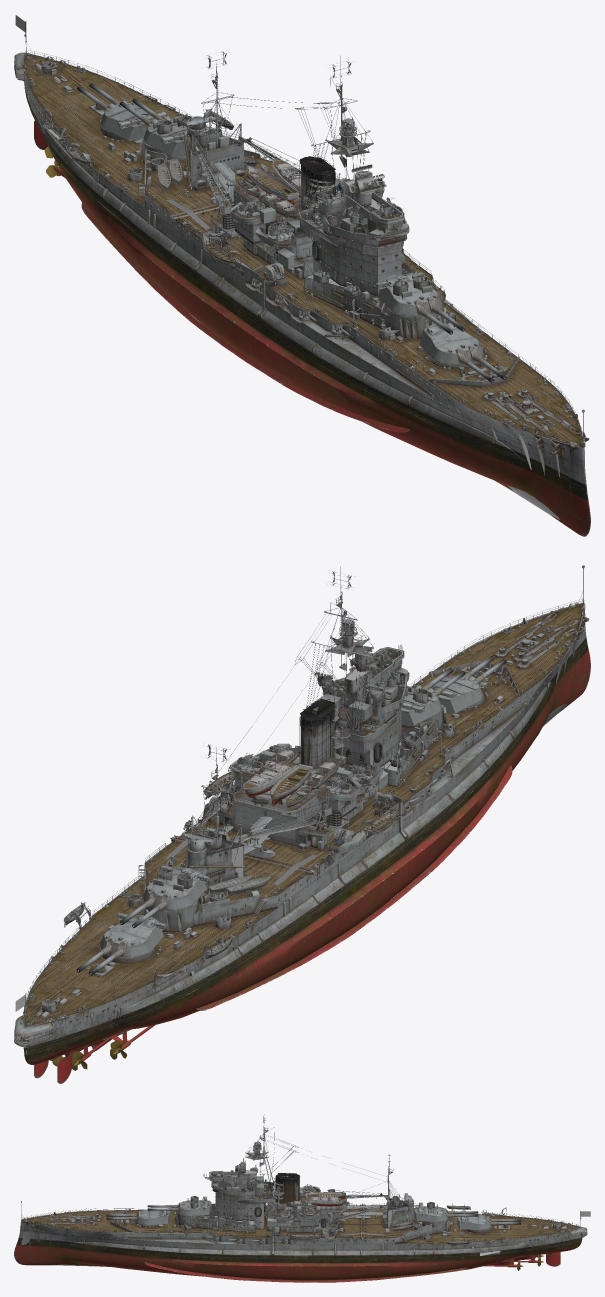
File: hms_warspite_war_thunder-maximum-compressed.glb
3 views of the same model, one above another, from view 1: azimuth 30°, elevation 25°; view 2: azimuth 150°, elevation 25°; view 3: azimuth 270°, elevation 25° (orthographic). The views are drawn at different scales.
Visible parts, largest first — view 1: Object_110, Object_51, Object_32, Object_111, Object_116, Object_135, Object_118, Object_115, Object_123, Object_134, Object_124, Object_117 (+13 smaller); view 2: Object_110, Object_32, Object_51, Object_111, Object_117, Object_118, Object_134, Object_135, Object_124, Object_116, Object_130, Object_115 (+20 smaller); view 3: Object_51, Object_110, Object_32, Object_111, Object_116, Object_117, Object_135, Object_118, Object_108, Object_134, Object_107, Object_115 (+16 smaller).
Part boxes in pixels (x1,y1,x2,y2): Object_110: [23, 54, 587, 492]; Object_51: [24, 87, 590, 536]; Object_32: [25, 55, 582, 447]; Object_111: [23, 54, 587, 493]; Object_116: [303, 219, 411, 329]; Object_135: [77, 83, 506, 379]; Object_118: [318, 179, 409, 247]; Object_115: [183, 117, 246, 189]; Object_123: [203, 214, 337, 287]; Object_134: [100, 102, 187, 156]; Object_124: [195, 146, 275, 249]; Object_117: [233, 164, 335, 278]; Object_110: [23, 602, 585, 1053]; Object_32: [25, 604, 582, 1025]; Object_51: [24, 644, 590, 1083]; Object_111: [23, 602, 587, 1055]; Object_117: [233, 705, 364, 846]; Object_118: [318, 645, 409, 722]; Object_134: [100, 867, 206, 959]; Object_135: [76, 656, 494, 975]; Object_124: [239, 769, 361, 850]; Object_116: [334, 701, 438, 787]; Object_130: [25, 599, 582, 1014]; Object_115: [183, 815, 246, 891]; Object_51: [14, 1241, 581, 1282]; Object_110: [17, 1204, 582, 1259]; Object_32: [22, 1184, 578, 1244]; Object_111: [19, 1205, 579, 1259]; Object_116: [190, 1192, 267, 1232]; Object_117: [265, 1177, 346, 1232]; Object_135: [106, 1199, 521, 1227]; Object_118: [203, 1170, 265, 1196]; Object_108: [293, 1205, 422, 1234]; Object_134: [414, 1205, 491, 1233]; Object_107: [266, 1205, 336, 1240]; Object_115: [383, 1189, 419, 1227].
Bounding box in the file's own units: 34.6 × 57.72 × 197.
56 materials, 53 textured.
